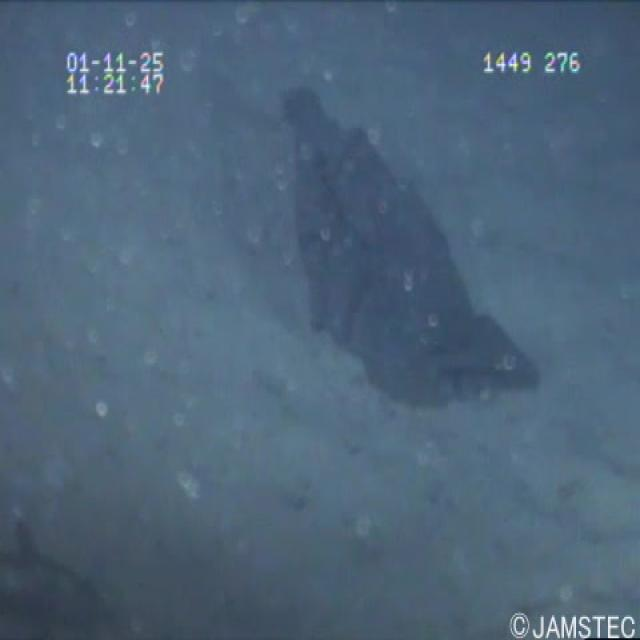plastic: (263, 71, 561, 423)
